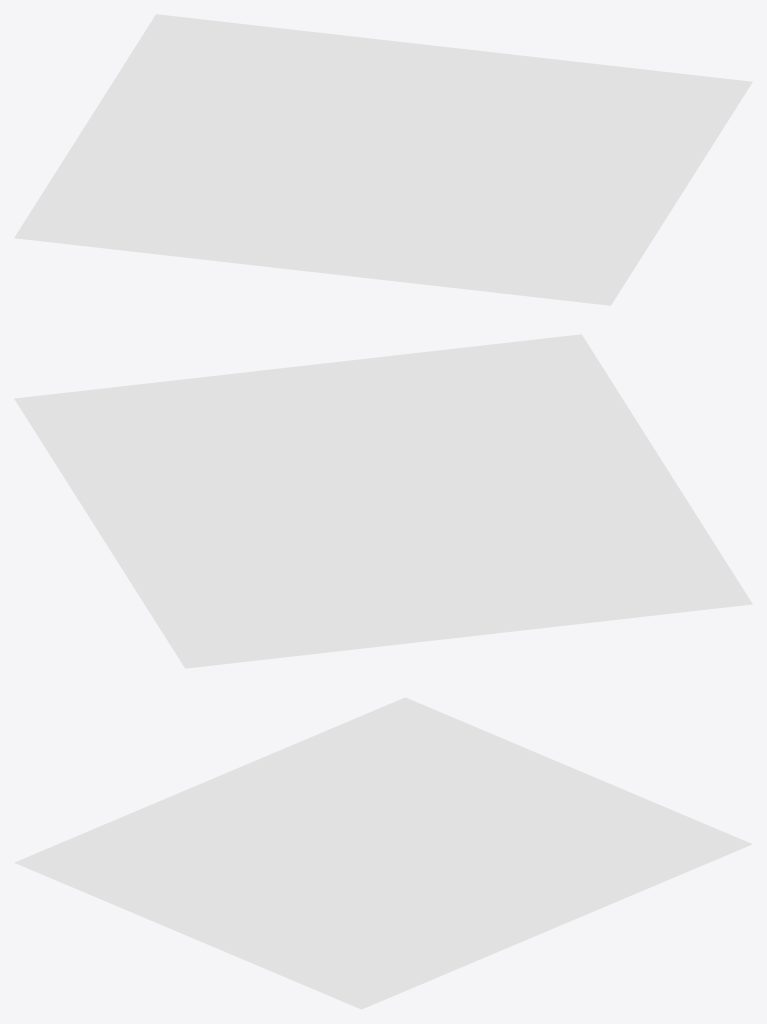
The model's file is GoldenLightContainer.fbx.
3 renders of one model, top to bottom at view 1: azimuth 30°, elevation 25°; view 2: azimuth 150°, elevation 25°; view 3: azimuth 270°, elevation 25°, orthographic. The views are drawn at different scales.
Parts seen in each view (by area): view 1: GoldenLight_gradient (1) (×2), GoldenLight_gradient; view 2: GoldenLight_gradient (1) (×2), GoldenLight_gradient; view 3: GoldenLight_gradient (1) (×2), GoldenLight_gradient.
Boxes of the visible parts, bbox=[...] form: GoldenLight_gradient (1) (×2): bbox=[14, 60, 721, 305]; GoldenLight_gradient: bbox=[85, 14, 752, 193]; GoldenLight_gradient (1) (×2): bbox=[130, 334, 752, 654]; GoldenLight_gradient: bbox=[14, 367, 468, 668]; GoldenLight_gradient (1) (×2): bbox=[14, 697, 681, 978]; GoldenLight_gradient: bbox=[188, 771, 752, 1009].
Bounding box in the file's own units: 175 × 2.31e-14 × 175.
